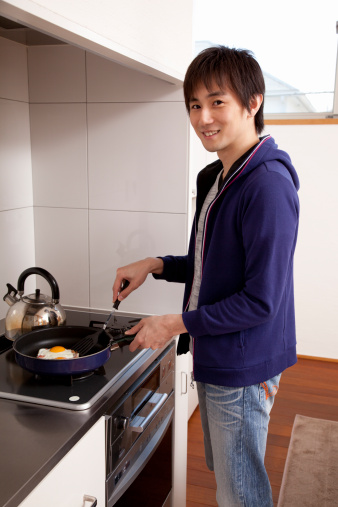em pe: (104, 48, 296, 507)
